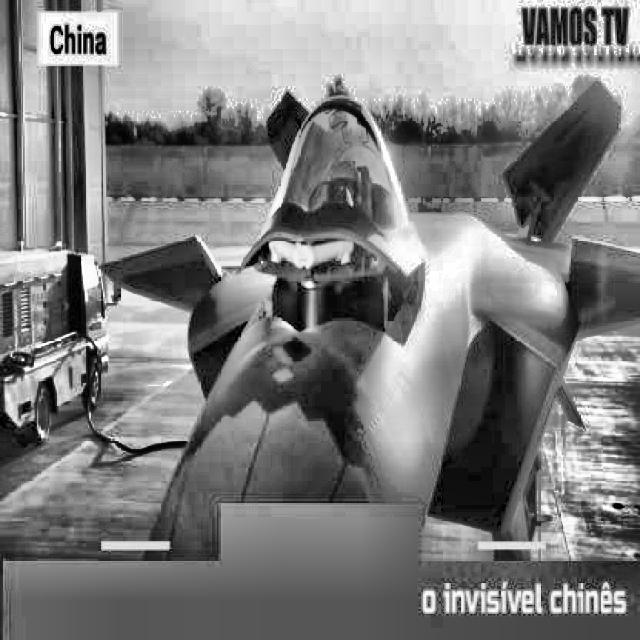J20: (98, 77, 639, 561)
